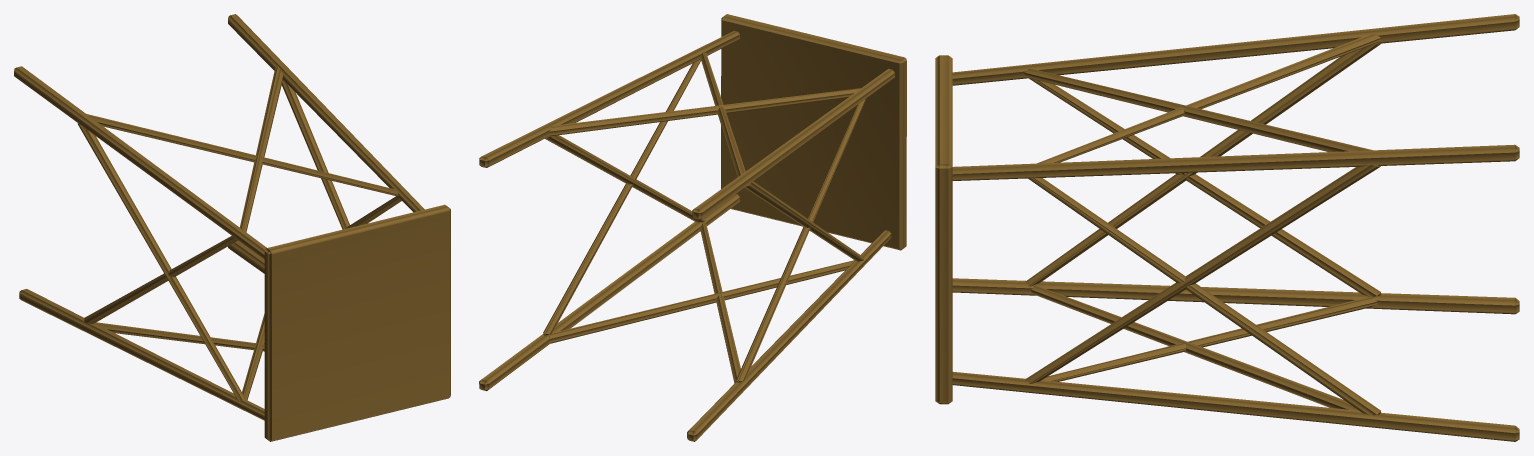
Rendered from MeshSideTable_201_3_0.obj.
3 renders of one model, left to right at view 1: azimuth 30°, elevation 25°; view 2: azimuth 150°, elevation 25°; view 3: azimuth 270°, elevation 25°, orthographic. The views are drawn at different scales.
Parts seen in each view (by area): view 1: SideTable_201_3; view 2: SideTable_201_3; view 3: SideTable_201_3.
Boxes of the visible parts, x1,y1,x2,y2 form: SideTable_201_3: [14, 14, 450, 441]; SideTable_201_3: [479, 14, 906, 441]; SideTable_201_3: [935, 14, 1519, 441].
Size of the model in its own units: 0.3316 by 0.3316 by 0.5975.
